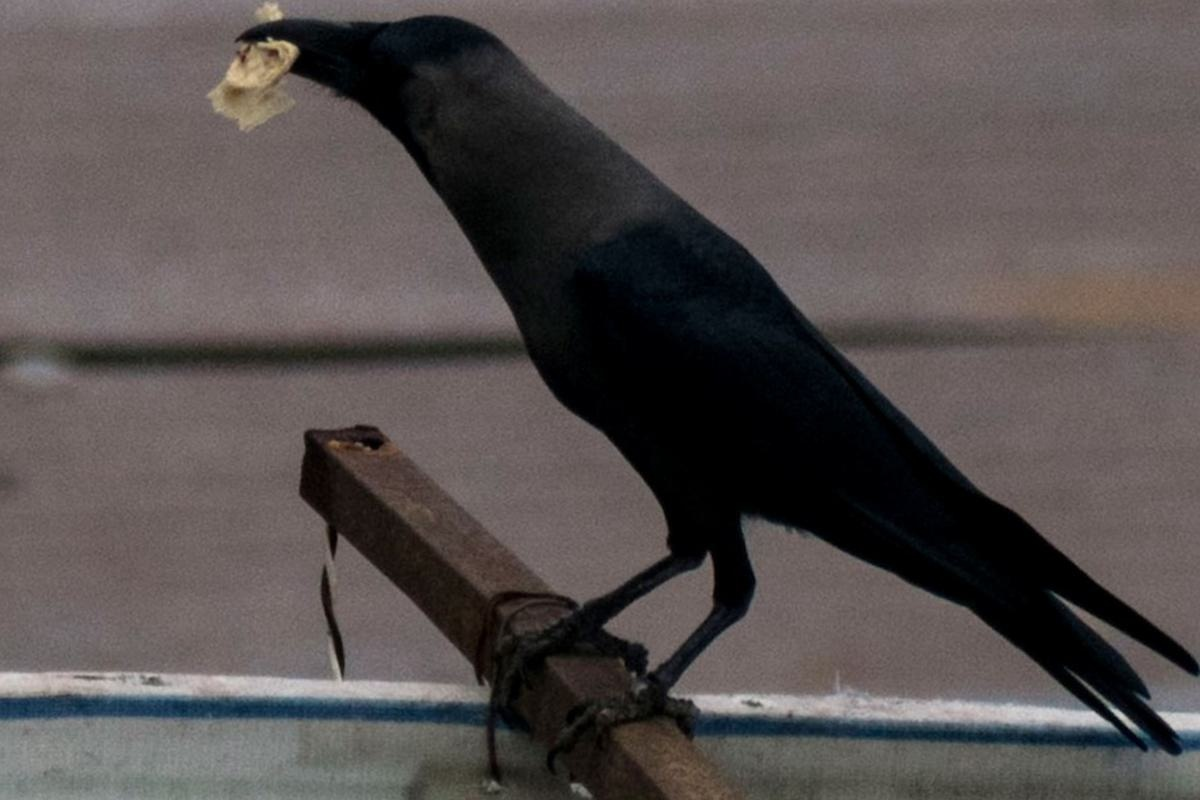crow: (228, 10, 1147, 775)
